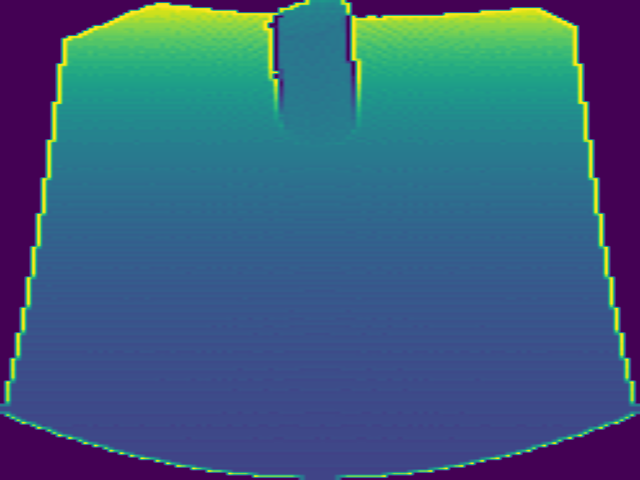cylinder: (268, 1, 361, 146)
